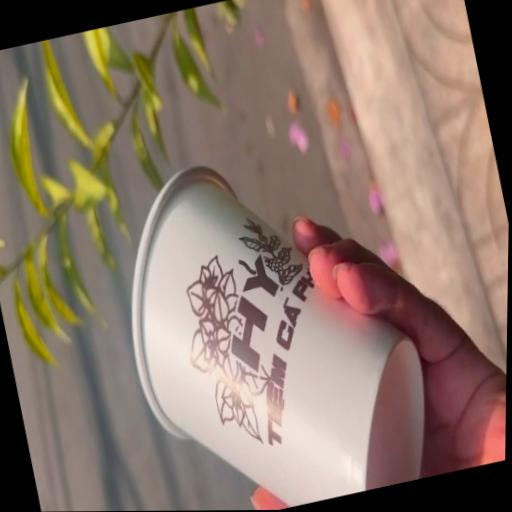Ly_giay: (131, 166, 423, 506)
